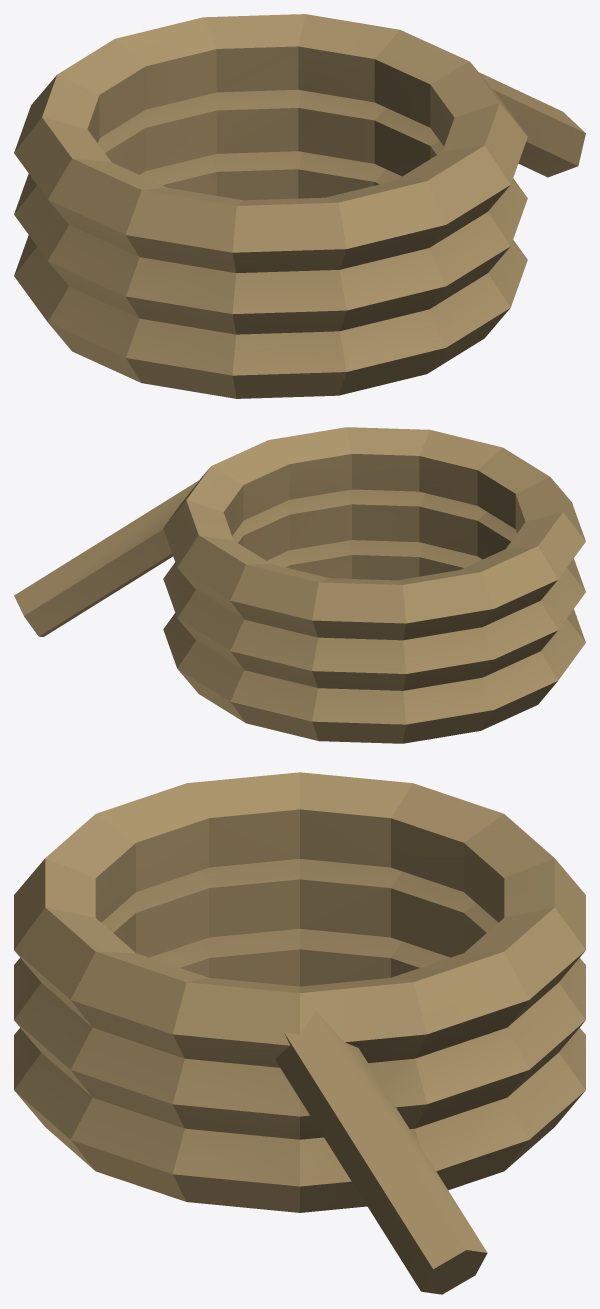
The model's file is RopeCoil.fbx.
3 renders of one model, top to bottom at view 1: azimuth 30°, elevation 25°; view 2: azimuth 150°, elevation 25°; view 3: azimuth 270°, elevation 25°, orthographic. The views are drawn at different scales.
Visible parts, largest first — view 1: RopeCoil; view 2: RopeCoil; view 3: RopeCoil.
Boxes of the visible parts, x1,y1,x2,y2 form: RopeCoil: [14, 14, 585, 398]; RopeCoil: [14, 427, 585, 743]; RopeCoil: [14, 772, 585, 1294].
Bounding box in the file's own units: 0.5081 × 0.1596 × 0.3705.
